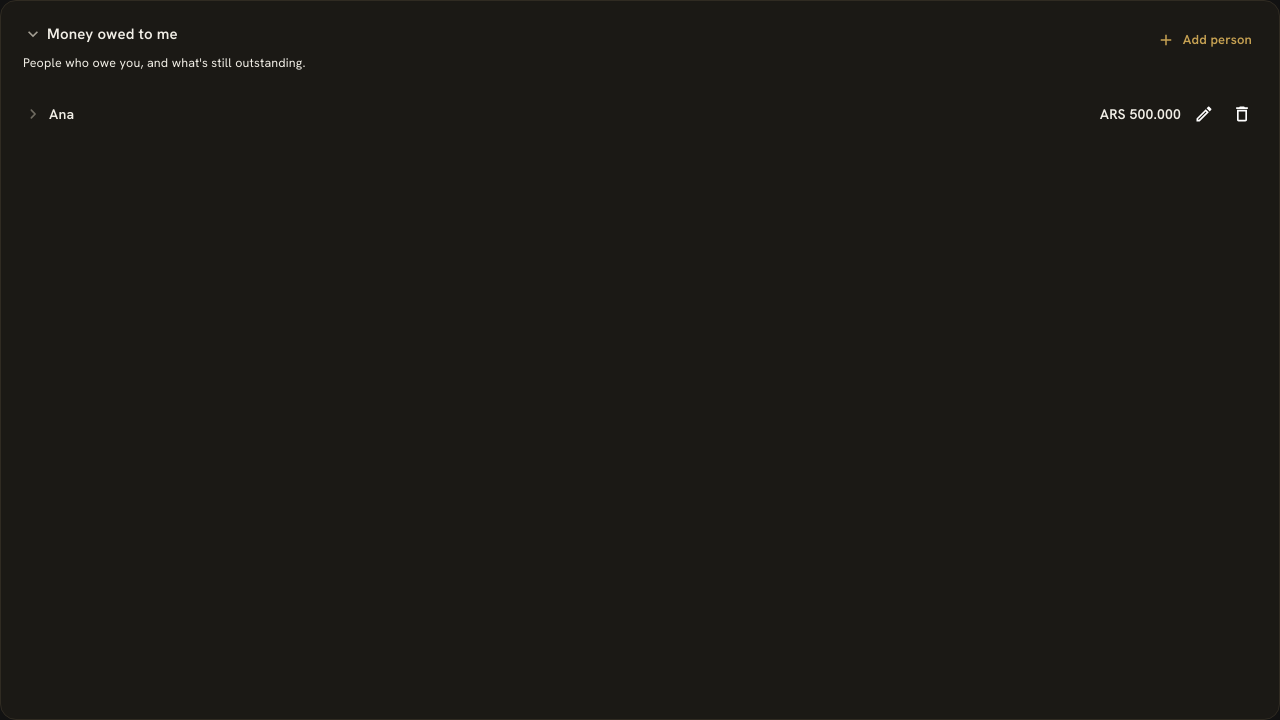
MatchSuggestions + PDF export (task 9) › shows a calm empty state when there are no suggestions
Expected: the text "Ana" is shown, [49,104,74,124]
Click the button with aria-label "Show Ana's items". click: {"x": 1140, "y": 114}
box: [23,104,1181,124]
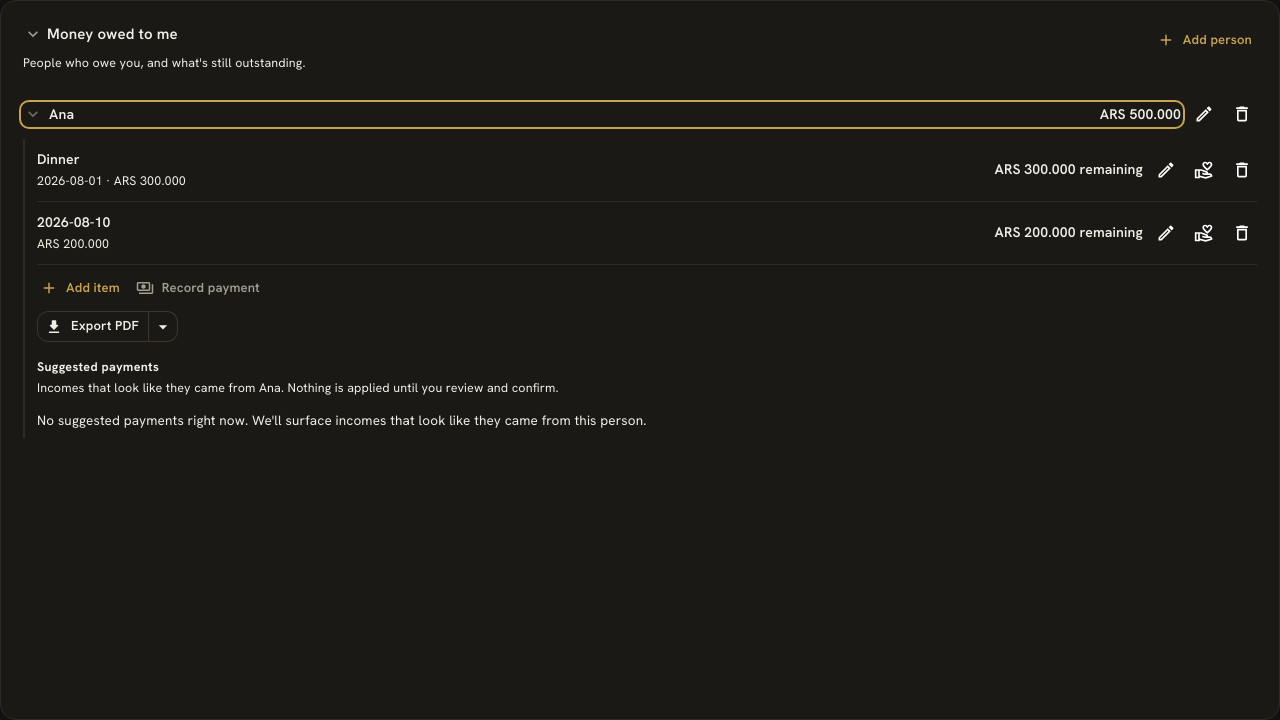
Now the text "Dinner" is shown, box [37,149,80,170]
Now the text "No suggested payments right now" is shown, box [37,410,647,428]
